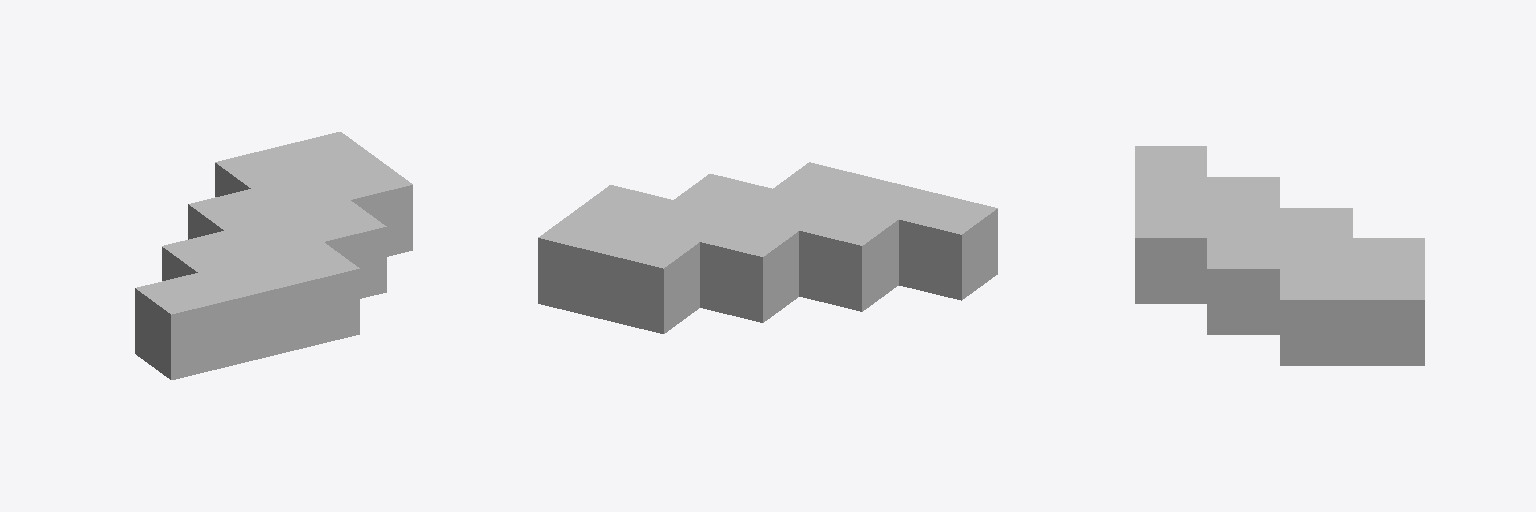
Rendered from socks.obj.
3 renders of one model, left to right at view 1: azimuth 30°, elevation 25°; view 2: azimuth 150°, elevation 25°; view 3: azimuth 270°, elevation 25°, orthographic.
Parts seen in each view (by area): view 1: socks; view 2: socks; view 3: socks.
Boxes of the visible parts, <box> form: socks: <box>135,132,412,379</box>; socks: <box>538,162,997,333</box>; socks: <box>1135,146,1424,365</box>.
Size of the model in its own units: 5 by 1 by 4.